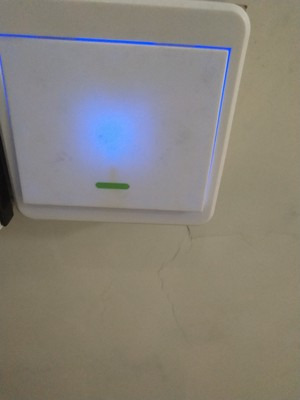switch: (1, 24, 231, 216)
